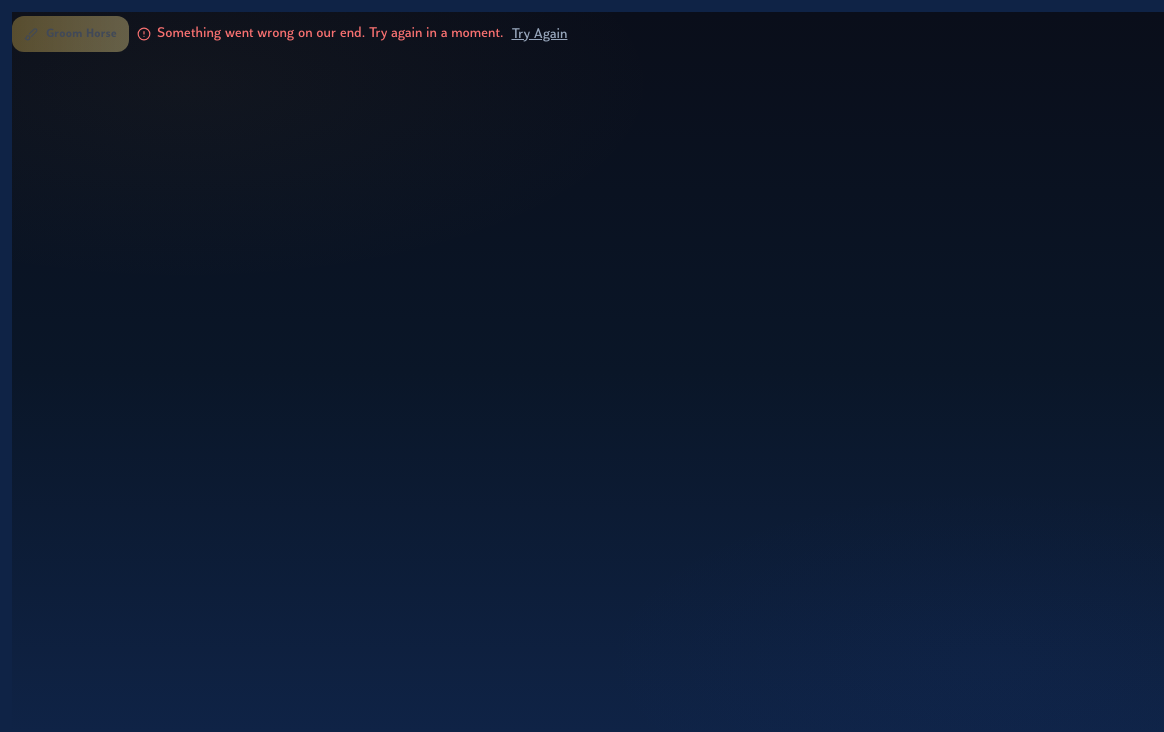
Test: Groom Horse in Quick Actions (Equoria-7dje4) › shows the mapped copy and a retry that really re-reads when the care read fails
The width and height of the screenshot is (1164, 732).
expect the button "Groom Horse" is disabled: met, box [12,16,129,52]
Step 1. Click the button with test id "groom-status-retry" → {"x": 540, "y": 34}, box [512,12,568,56]
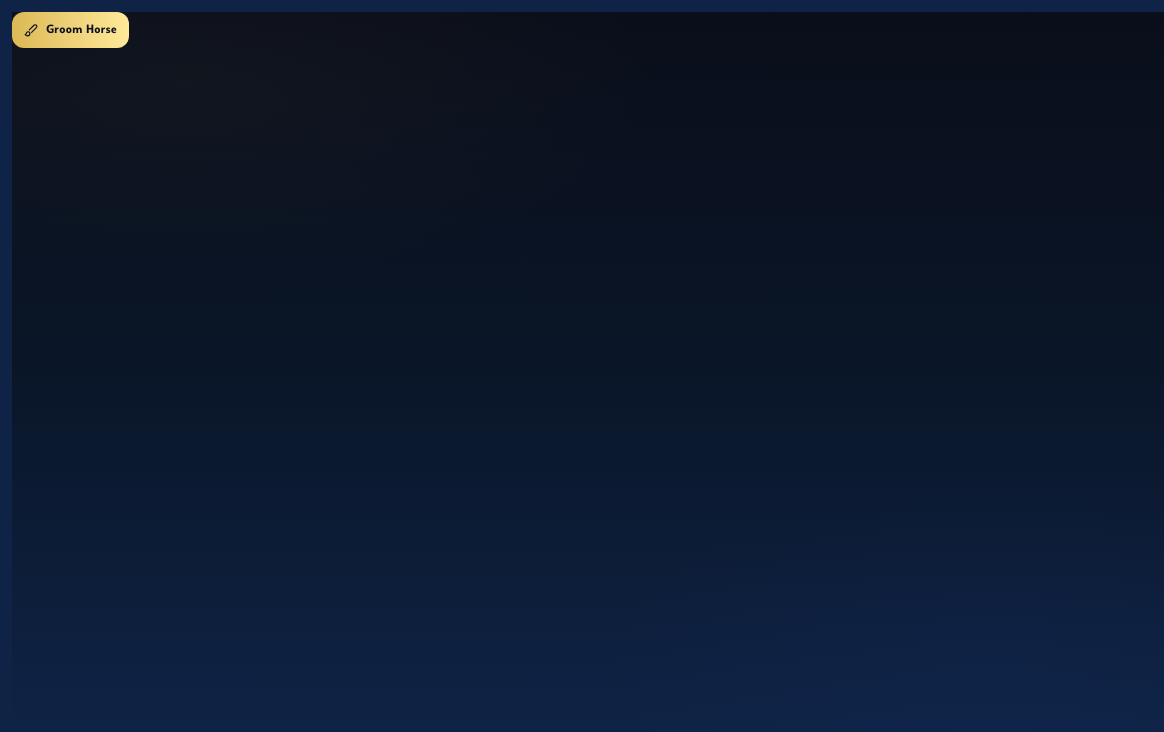
expect the button "Groom Horse" is enabled: met, box [12,12,129,48]
